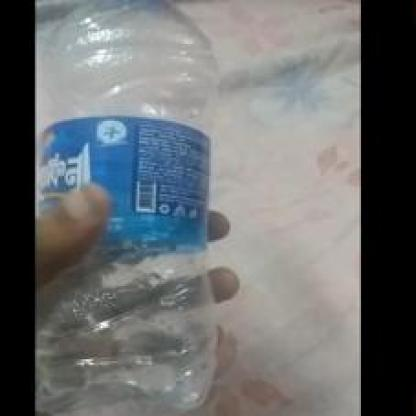bottle: (42, 0, 238, 414)
